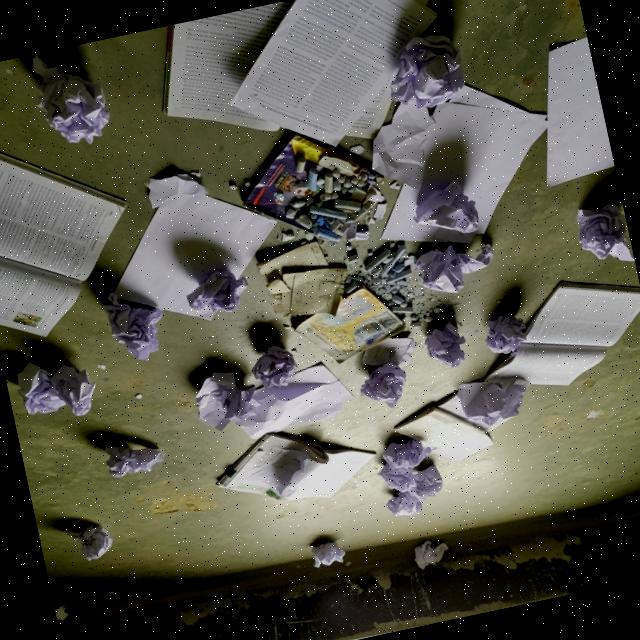paper: (17, 44, 112, 155), (382, 28, 472, 108), (13, 352, 97, 431), (188, 363, 260, 437), (410, 172, 486, 240), (98, 286, 164, 364), (570, 194, 634, 268), (417, 309, 474, 377), (99, 433, 168, 485), (243, 336, 300, 397), (354, 356, 410, 412), (478, 308, 530, 358), (376, 429, 428, 474), (304, 531, 351, 574), (408, 531, 458, 571), (73, 518, 118, 558), (382, 486, 424, 520)
